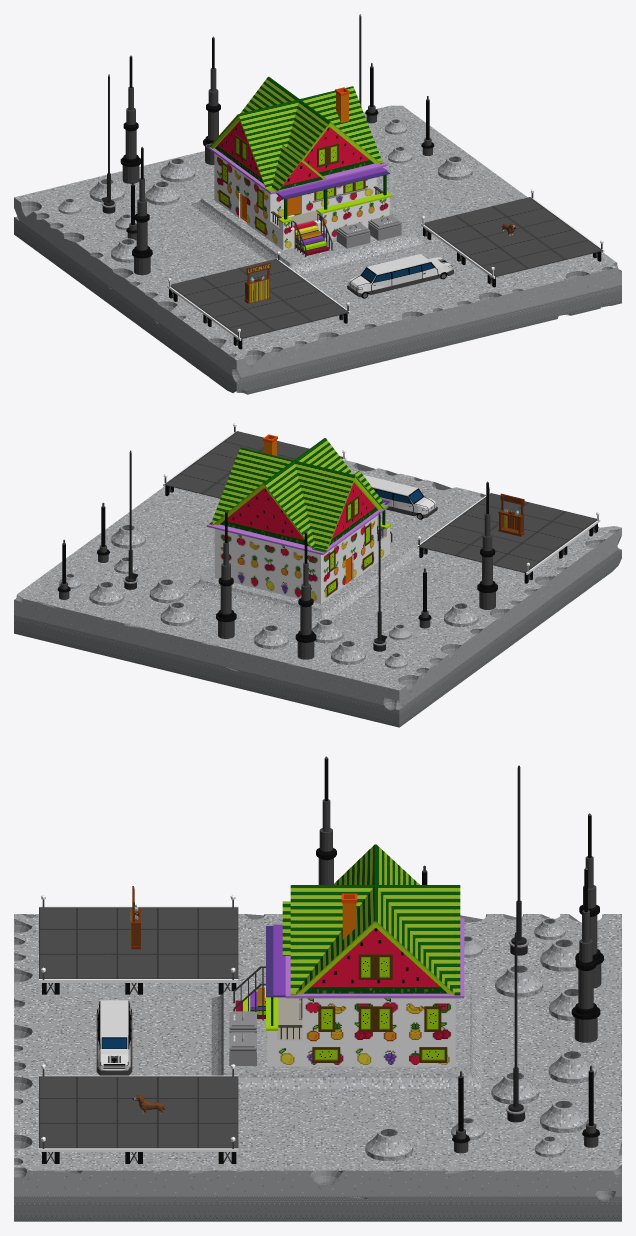
The picture shows the model from 3 angles, top to bottom: view 1: azimuth 30°, elevation 25°; view 2: azimuth 150°, elevation 25°; view 3: azimuth 270°, elevation 25°; orthographic projection. The views are drawn at different scales.
Visible parts, largest first — view 1: Cube.027, Cube.1063, Cube.026, Cube.025, Cube.028, VEHICLES_LIMOUSINE, Cylinder.020, Cylinder.021, Cylinder.017, OBJRANDOM_LEMONADE_STAND, Cube.029, Cube.030 (+4 smaller); view 2: Cube.027, Cube.1063, Cube.025, Cube.028, Cube.026, VEHICLES_LIMOUSINE, Cylinder.020, Cylinder.021, Cylinder.017, OBJRANDOM_LEMONADE_STAND, Cylinder.031, Cylinder.028 (+8 smaller); view 3: Cube.027, Cube.1063, Cube.026, Cube.025, Cube.028, VEHICLES_LIMOUSINE, Cylinder.017, Cylinder.020, Cylinder.021, Cylinder.033, Cylinder.031, Cylinder.029 (+9 smaller).
Boxes of the visible parts, <box> form: Cube.027: <box>14,105,621,394</box>; Cube.1063: <box>205,76,392,256</box>; Cube.026: <box>421,189,604,287</box>; Cube.025: <box>167,251,350,349</box>; Cube.028: <box>191,195,424,274</box>; VEHICLES_LIMOUSINE: <box>347,254,453,298</box>; Cylinder.020: <box>120,55,140,183</box>; Cylinder.021: <box>132,146,152,275</box>; Cylinder.017: <box>203,36,220,164</box>; OBJRANDOM_LEMONADE_STAND: <box>244,262,270,303</box>; Cube.029: <box>336,222,370,248</box>; Cube.030: <box>368,215,401,240</box>; Cube.027: <box>14,460,621,727</box>; Cube.1063: <box>206,434,392,603</box>; Cube.025: <box>417,485,600,583</box>; Cube.028: <box>190,538,419,620</box>; Cube.026: <box>163,423,346,498</box>; VEHICLES_LIMOUSINE: <box>363,475,437,519</box>; Cylinder.020: <box>295,531,316,659</box>; Cylinder.021: <box>477,481,497,609</box>; Cylinder.017: <box>216,510,236,638</box>; OBJRANDOM_LEMONADE_STAND: <box>498,493,524,536</box>; Cylinder.031: <box>89,581,124,605</box>; Cylinder.028: <box>331,640,365,664</box>; Cube.027: <box>14,914,621,1221</box>; Cube.1063: <box>233,844,464,1066</box>; Cube.026: <box>39,1064,238,1163</box>; Cube.025: <box>39,895,238,994</box>; Cube.028: <box>211,991,481,1088</box>; VEHICLES_LIMOUSINE: <box>96,1000,132,1075</box>; Cylinder.017: <box>571,867,600,1042</box>; Cylinder.020: <box>575,813,603,988</box>; Cylinder.021: <box>316,756,336,884</box>; Cylinder.033: <box>365,1128,413,1160</box>; Cylinder.031: <box>540,1100,587,1132</box>; Cylinder.029: <box>548,1050,596,1083</box>.
Size of the model in its own units: 4000 by 1815 by 4000.
38 materials, 6 textured.
